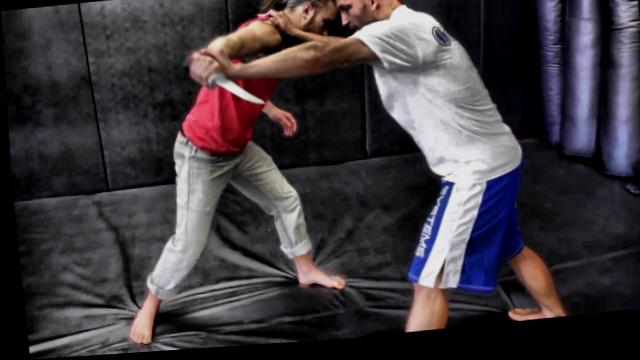knife: (179, 56, 268, 120)
